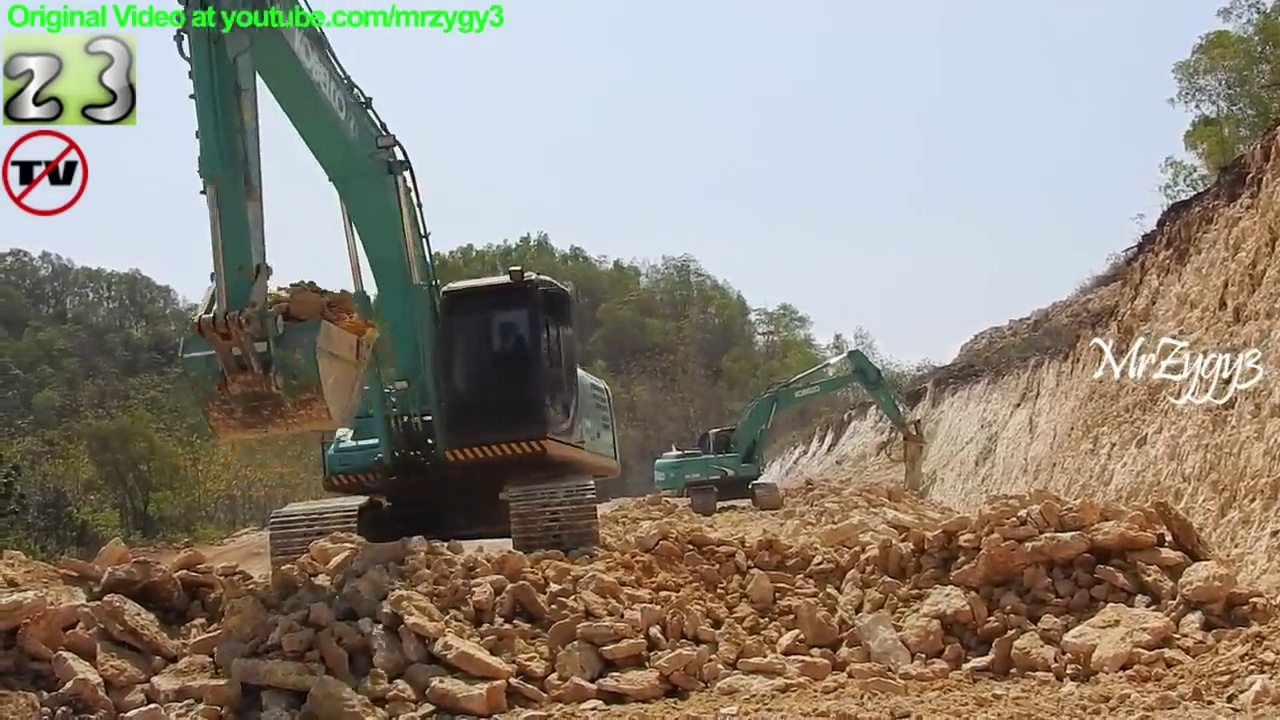excavator: (170, 1, 633, 607)
excavator breaker: (650, 347, 934, 517)
